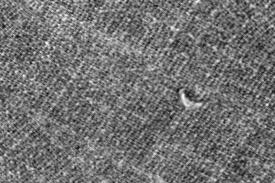snag: (177, 84, 207, 114)
